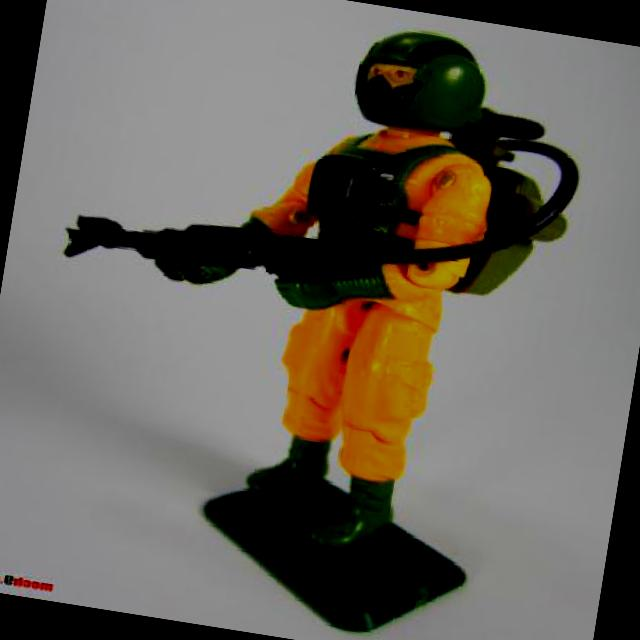Person: (46, 0, 601, 604)
